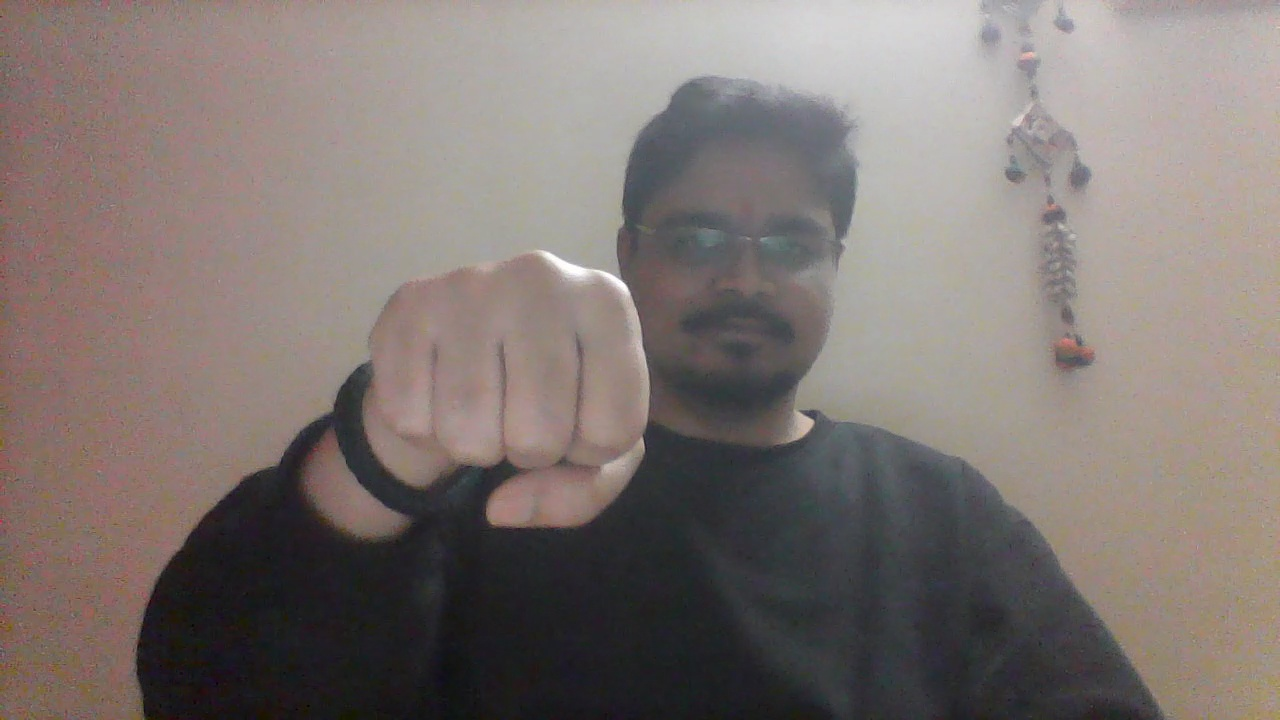Yes: (353, 240, 661, 536)
